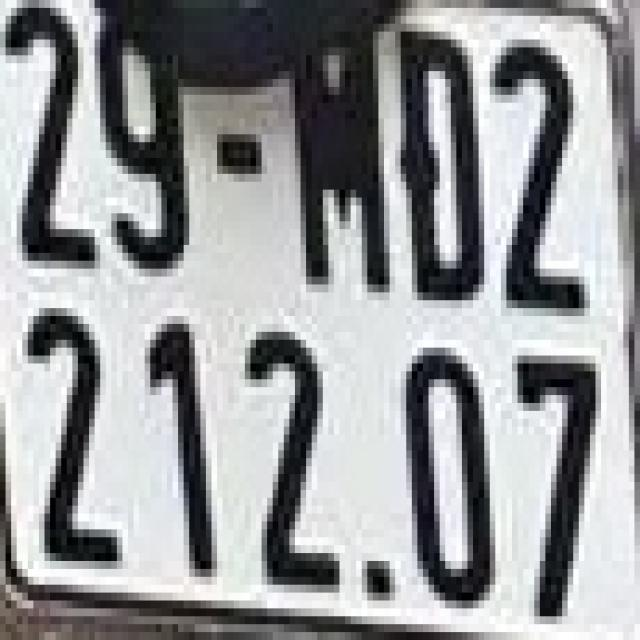0: (401, 340, 501, 608)
1: (139, 316, 228, 585)
2: (239, 316, 351, 592), (490, 31, 596, 316), (22, 300, 128, 569), (0, 0, 100, 269)
7: (512, 348, 601, 616)
9: (94, 8, 194, 276)
D: (395, 24, 484, 308)
M: (278, 8, 395, 300)
